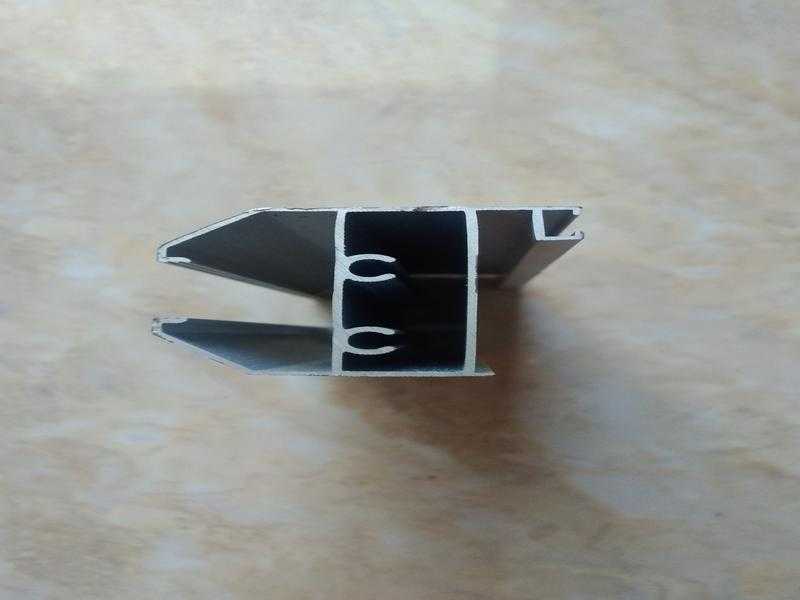Aluminium_3: (124, 166, 645, 424)
